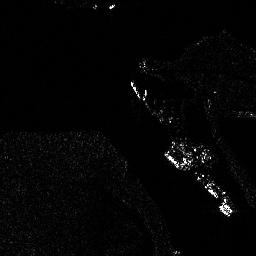ship: (161, 149, 190, 171)
